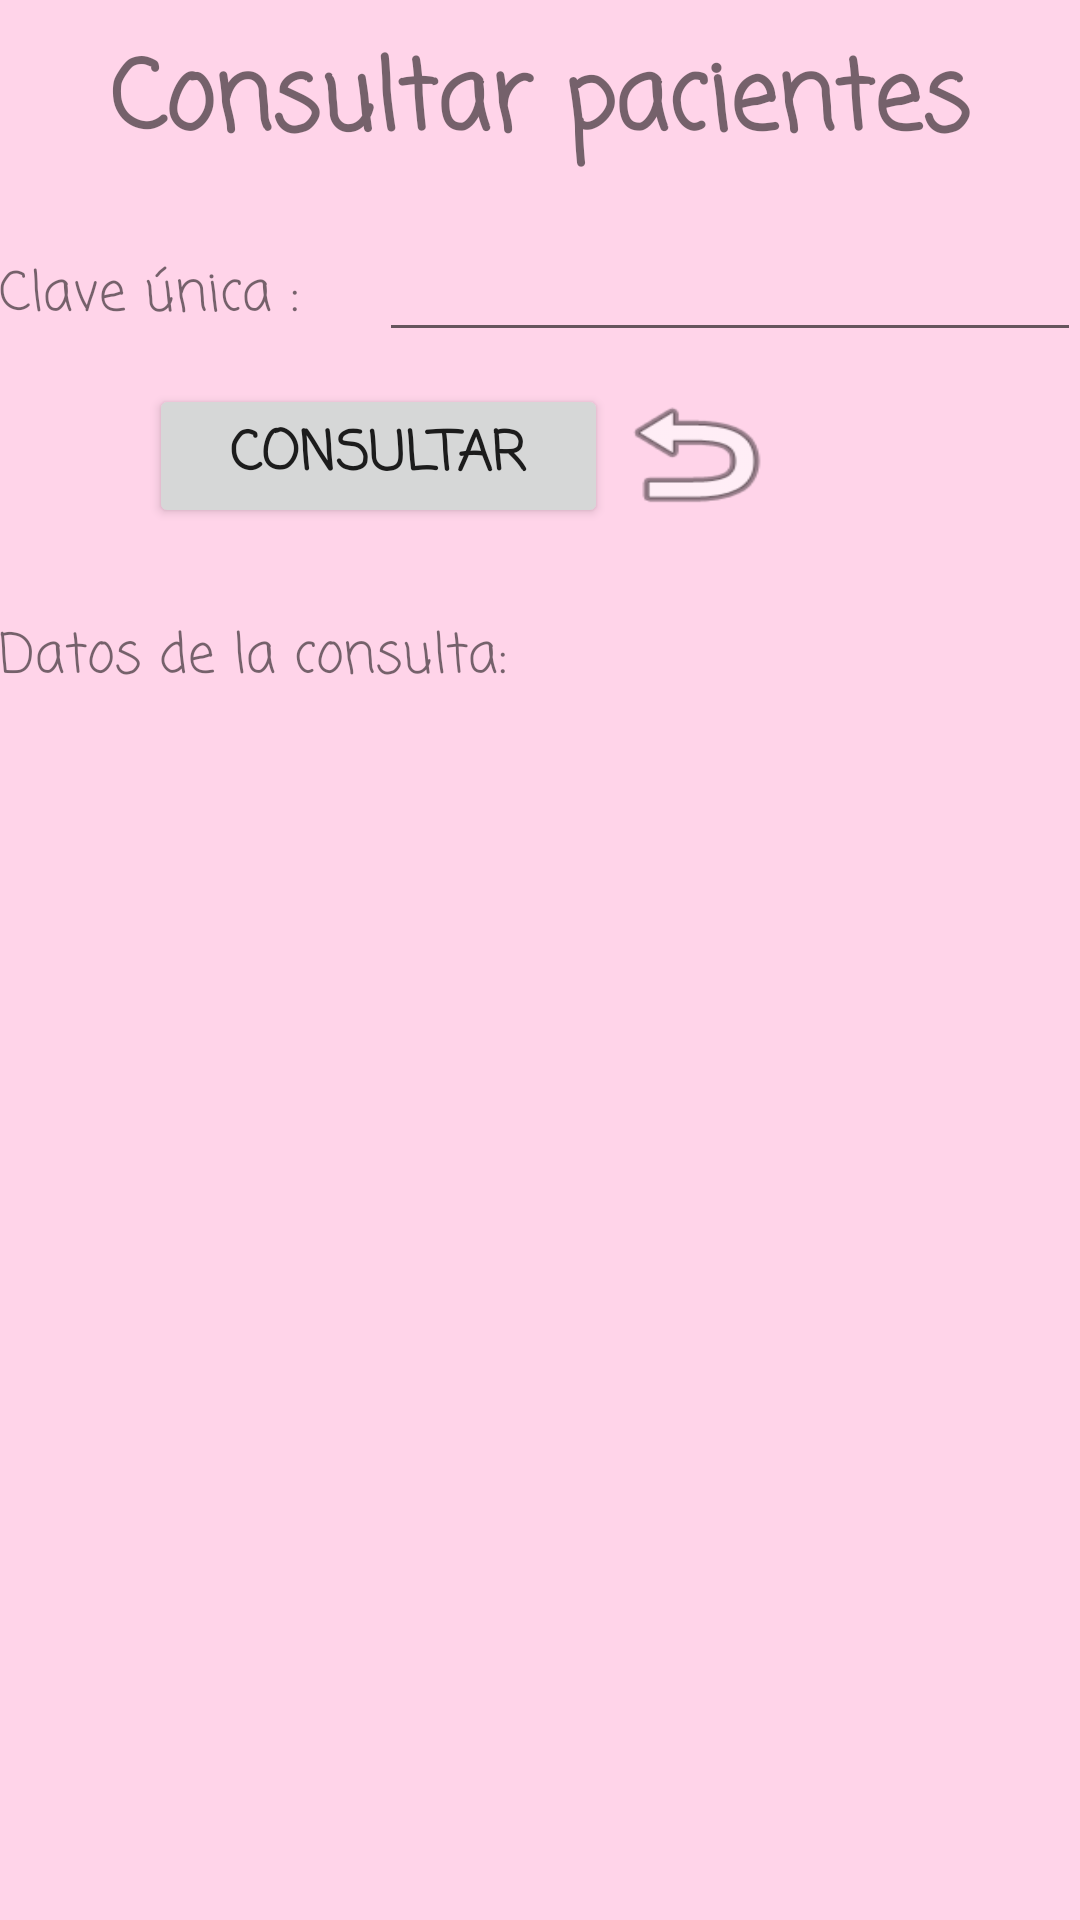

Icon bounding boxes for this 1080 x 1920 phone screenshot, format (x1, y1, x2, y2):
revert: (634, 408, 760, 502)
